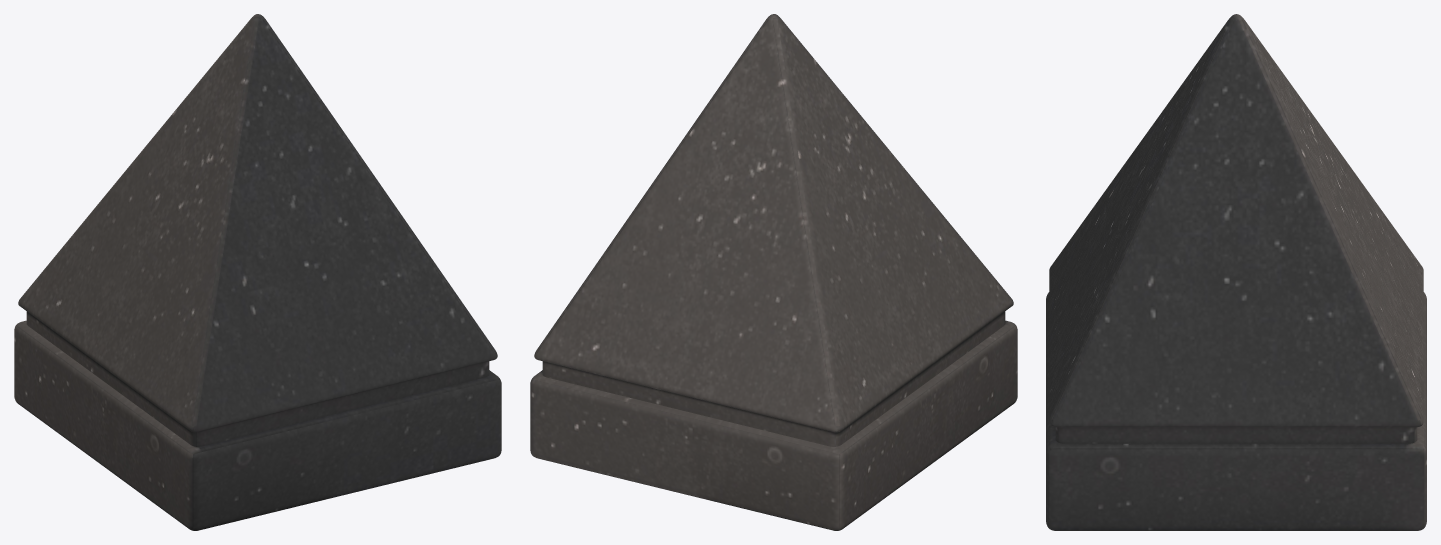
The model's file is b-pawn.glb.
3 renders of one model, left to right at view 1: azimuth 30°, elevation 25°; view 2: azimuth 150°, elevation 25°; view 3: azimuth 270°, elevation 25°, orthographic. The views are drawn at different scales.
Visible parts, largest first — view 1: b-pawn; view 2: b-pawn; view 3: b-pawn.
Part boxes in pixels (x1,y1,x2,y2): b-pawn: [14, 14, 501, 530]; b-pawn: [530, 14, 1017, 530]; b-pawn: [1046, 14, 1426, 530].
Size of the model in its own units: 0.508 by 0.6459 by 0.508.
1 material, 1 textured.
